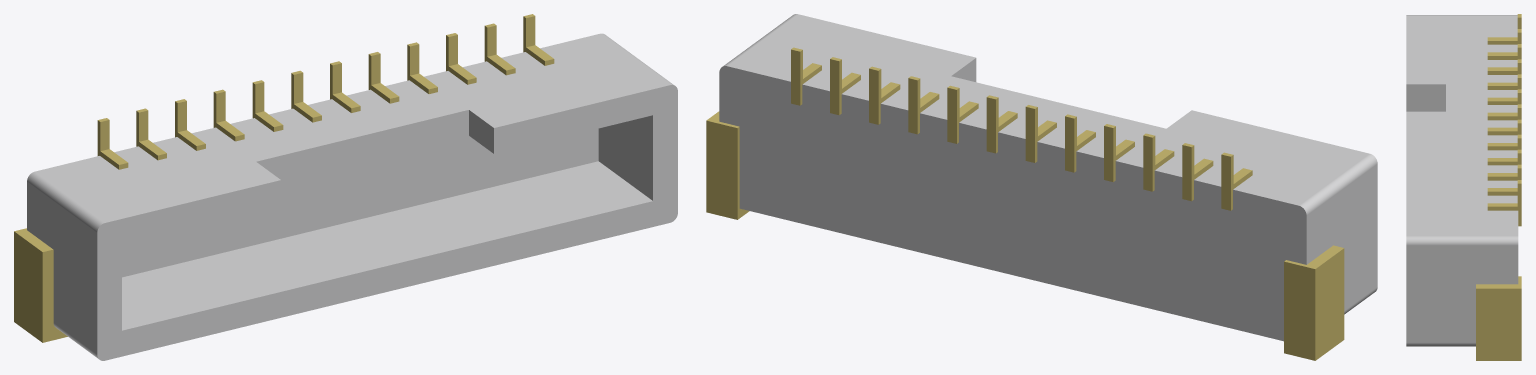
Rendered from jst_gh_12pin.glb.
3 views of the same model, side by side, from view 1: azimuth 30°, elevation 25°; view 2: azimuth 150°, elevation 25°; view 3: azimuth 270°, elevation 25° (orthographic). The views are drawn at different scales.
Parts seen in each view (by area): view 1: world; view 2: world; view 3: world.
Boxes of the visible parts, bbox=[...] form: world: bbox=[14, 14, 677, 360]; world: bbox=[706, 14, 1377, 360]; world: bbox=[1406, 14, 1521, 360].
Bounding box in the file's own units: 19.45 × 5.6 × 4.05.
